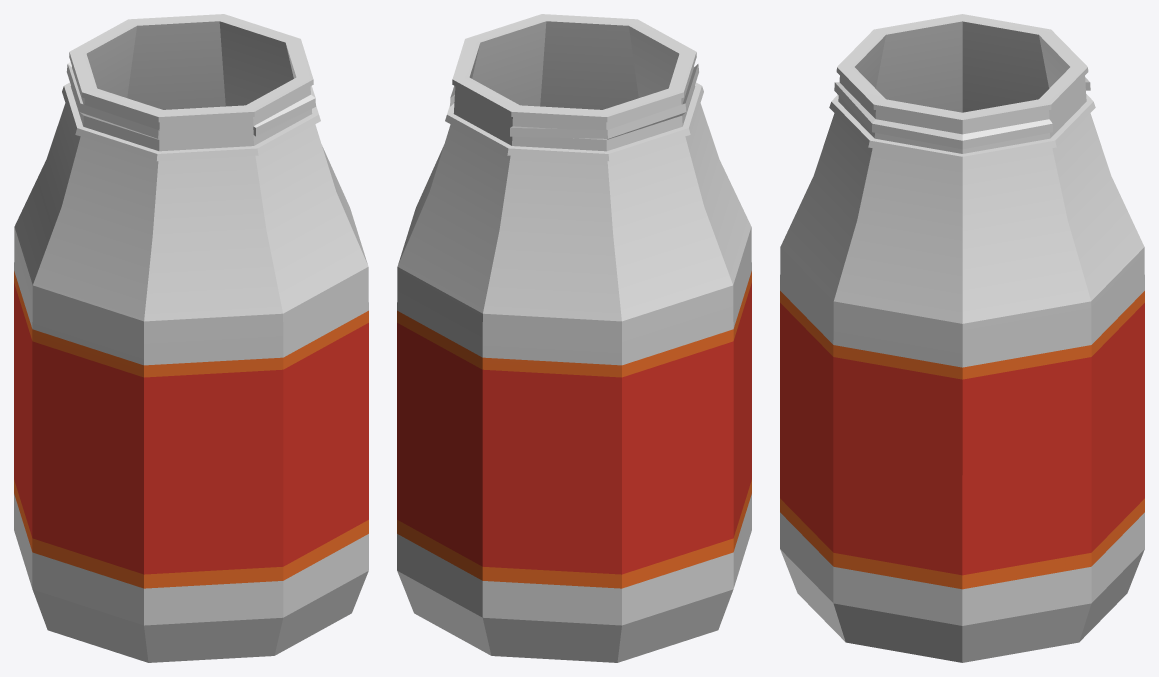
Rendered from Mayo.fbx.
3 views of the same model, side by side, from view 1: azimuth 30°, elevation 25°; view 2: azimuth 150°, elevation 25°; view 3: azimuth 270°, elevation 25° (orthographic).
Parts seen in each view (by area): view 1: Cylinder.013; view 2: Cylinder.013; view 3: Cylinder.013.
Part boxes in pixels (bbox=[...]): Cylinder.013: bbox=[14, 14, 368, 662]; Cylinder.013: bbox=[397, 14, 751, 662]; Cylinder.013: bbox=[780, 14, 1144, 662].
Size of the model in its own units: 7.82 by 12.44 by 7.82.
